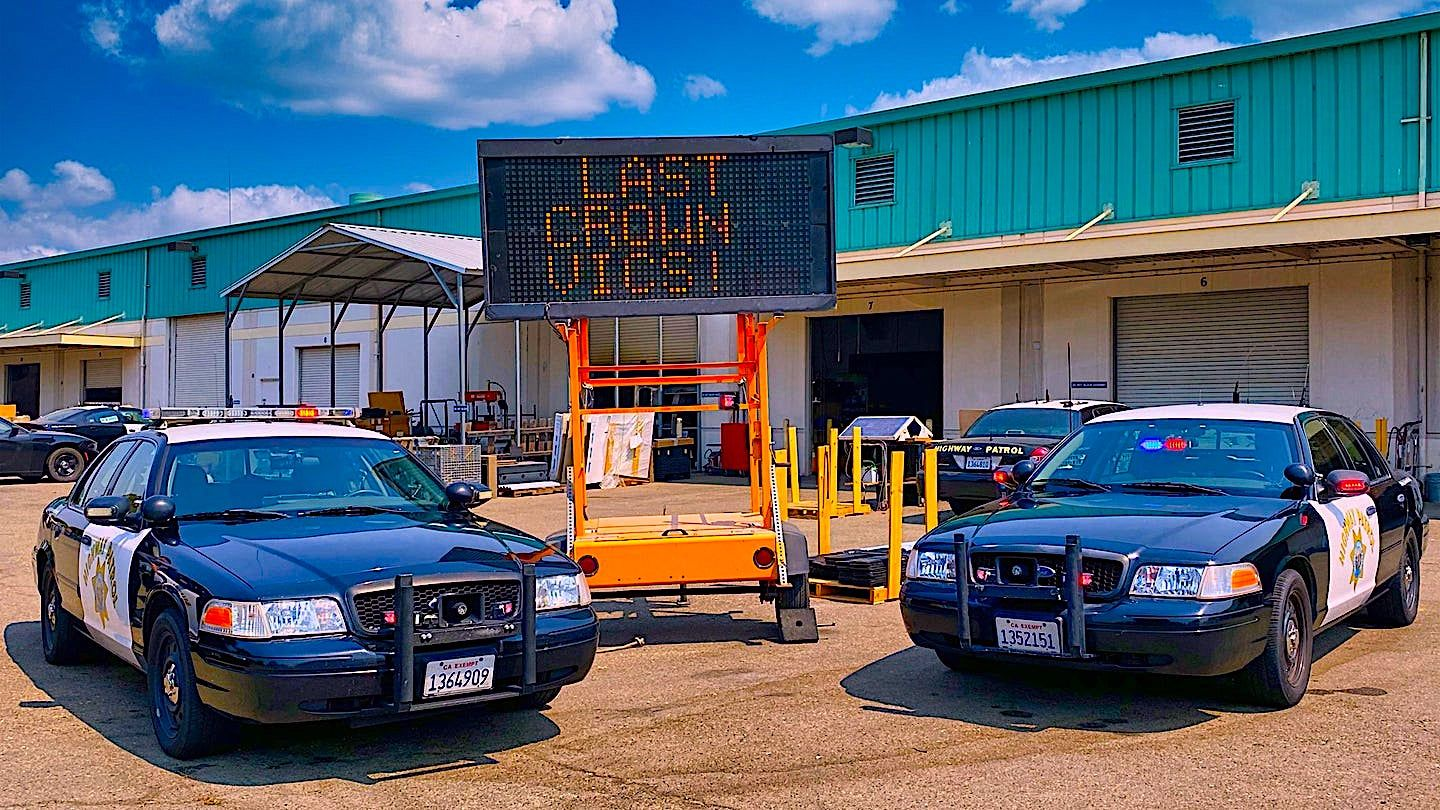special: (30, 406, 594, 769), (900, 401, 1432, 710)
